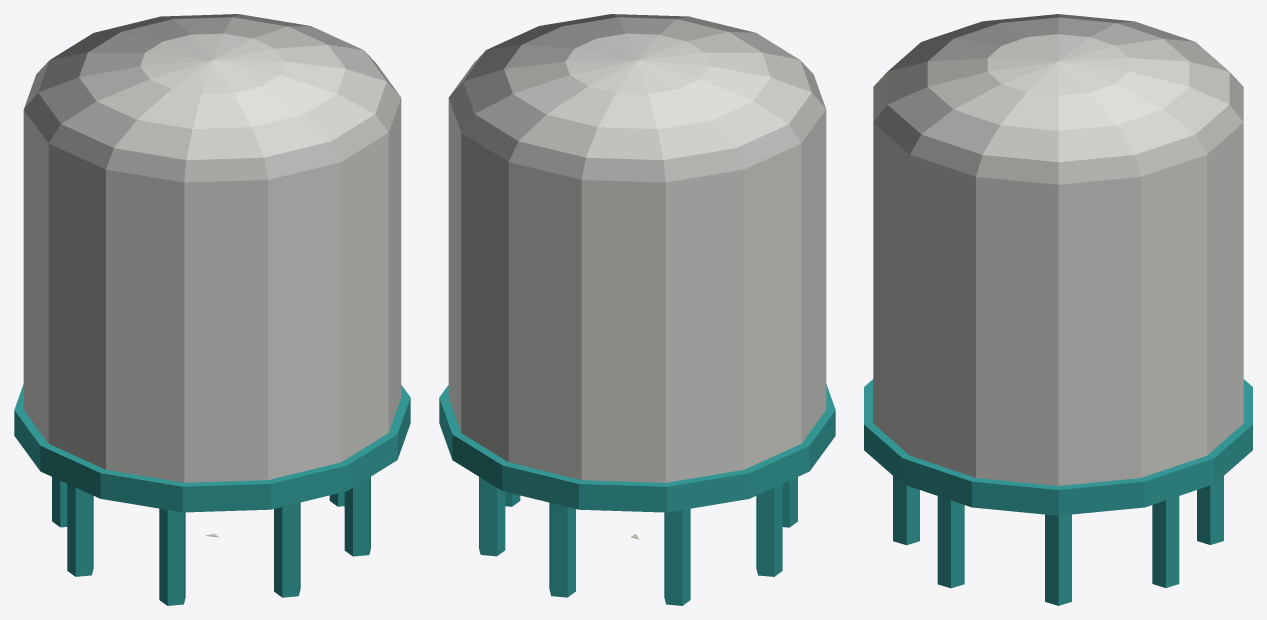
File: barc_tank.glb
The picture shows the model from 3 angles, left to right: view 1: azimuth 30°, elevation 25°; view 2: azimuth 150°, elevation 25°; view 3: azimuth 270°, elevation 25°; orthographic projection.
Visible parts, largest first — view 1: barc_tank_lod0; view 2: barc_tank_lod0; view 3: barc_tank_lod0.
Boxes of the visible parts, <box> form: barc_tank_lod0: <box>14,14,410,605</box>; barc_tank_lod0: <box>439,14,835,605</box>; barc_tank_lod0: <box>864,14,1252,605</box>.
Size of what is drawn, in the model's own units: 8.4 by 11.16 by 8.19.
